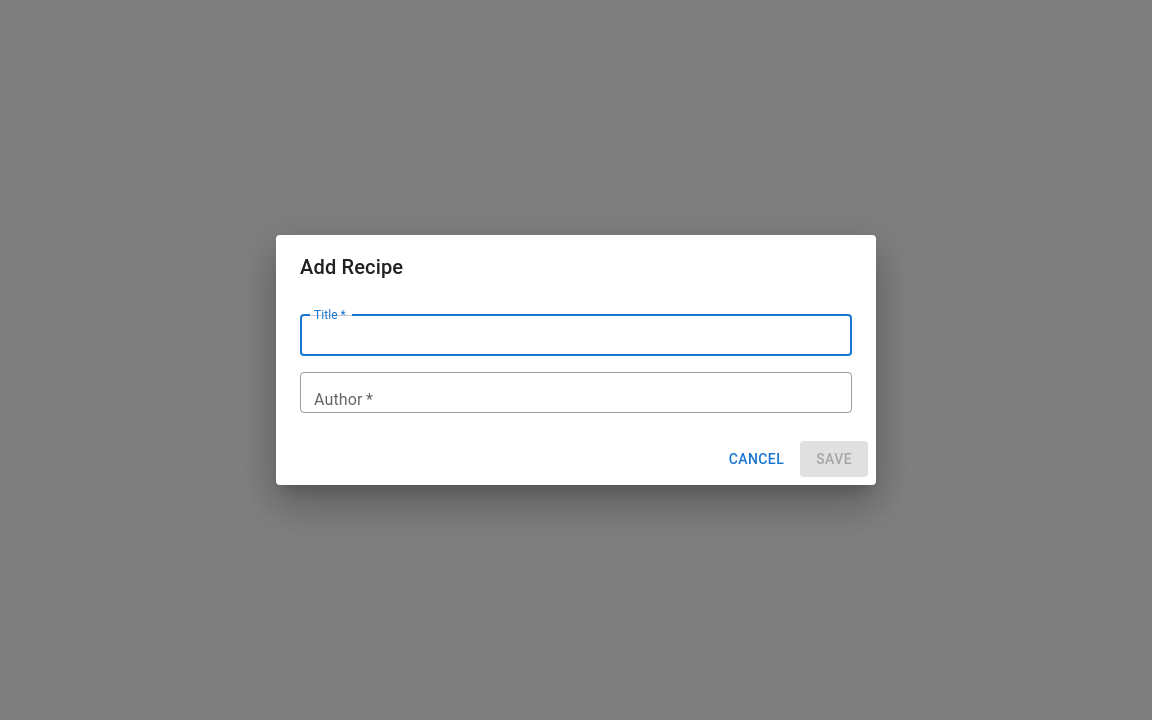
Scenario: RecipeFormDialog › add mode › shows unsaved changes warning when cancel is clicked with dirty fields
In the field labelled "Title *": (576, 335) [300,315,852,356], type "Something"
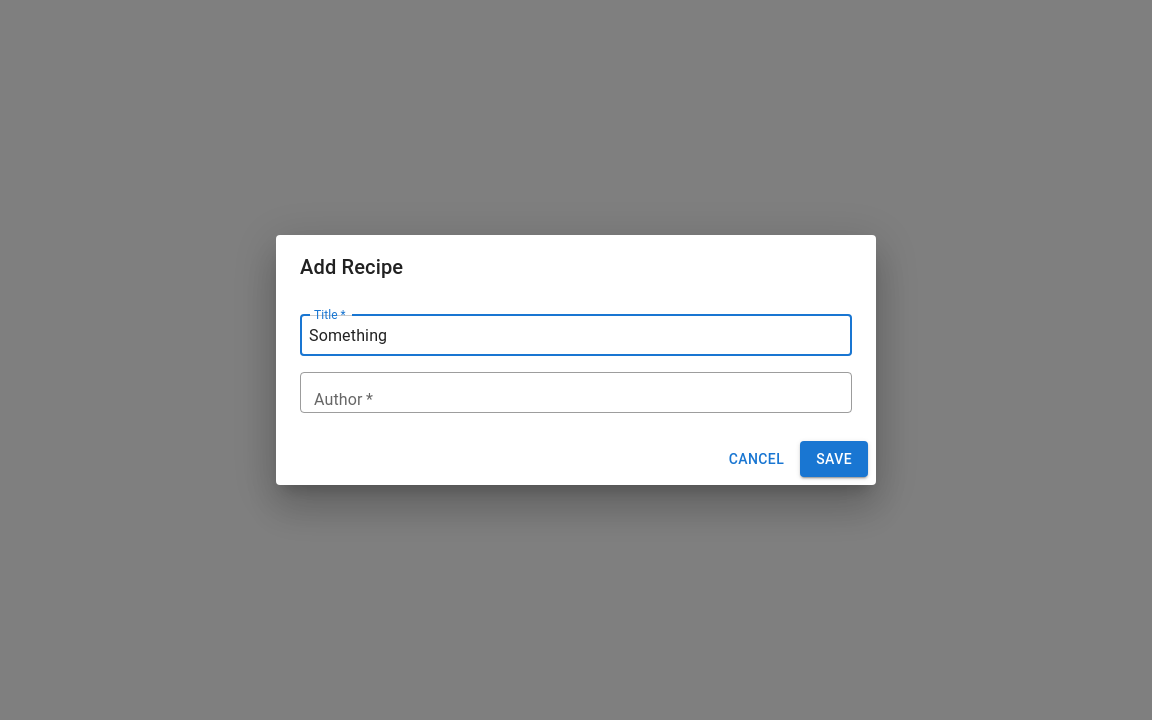
Click the button "Cancel": (756, 459) [721,441,792,477]
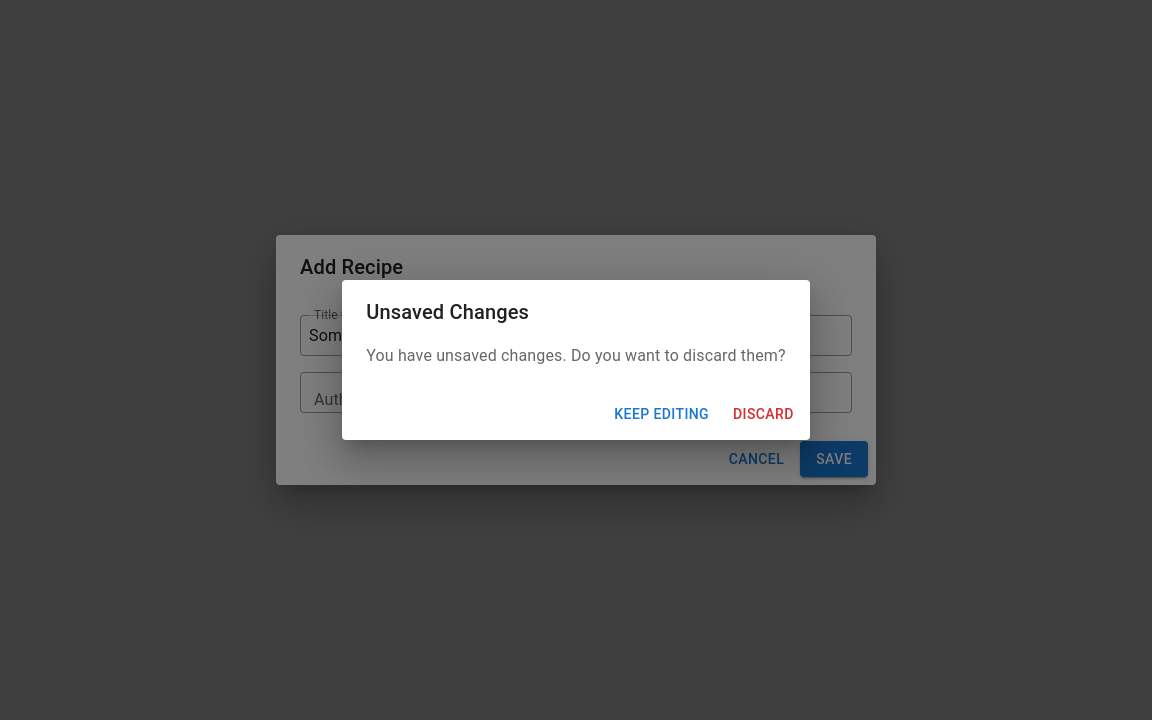
Result: the heading "Unsaved Changes" is shown at [366,300,529,324]
Result: the text "You have unsaved changes. Do you want to discard them?" is shown at [366,344,786,368]
